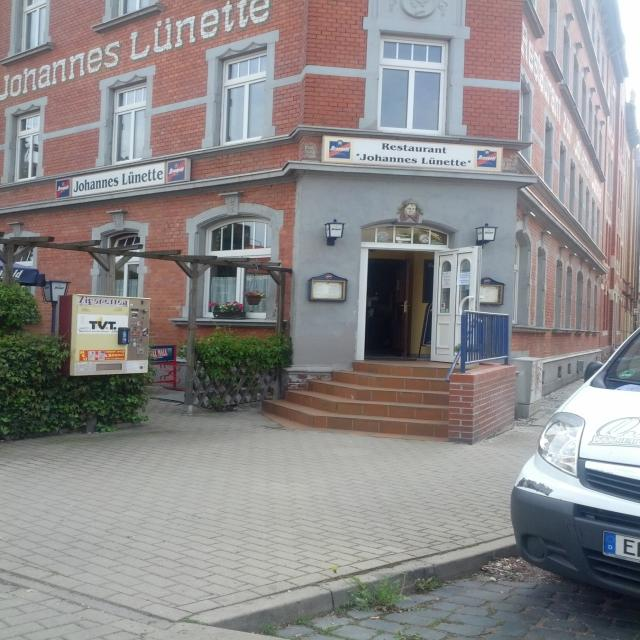AVOID: (270, 348, 452, 439)
